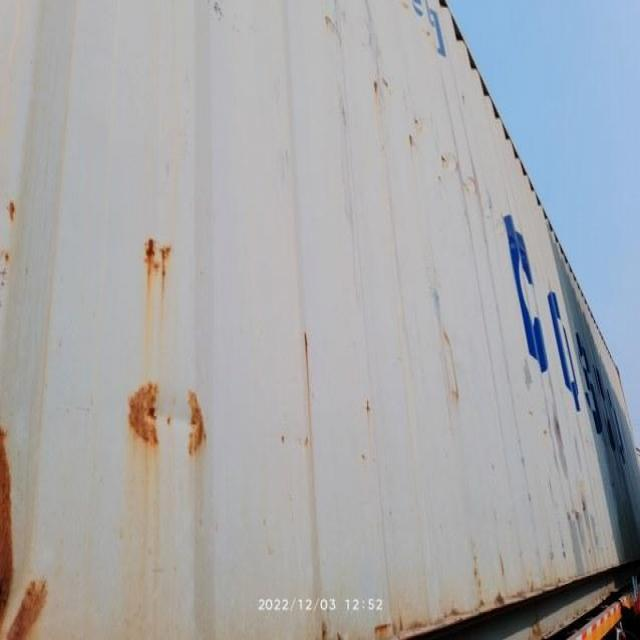Rust: (134, 383, 159, 448), (190, 403, 214, 448), (0, 441, 6, 611), (23, 586, 38, 632), (149, 239, 167, 277)
